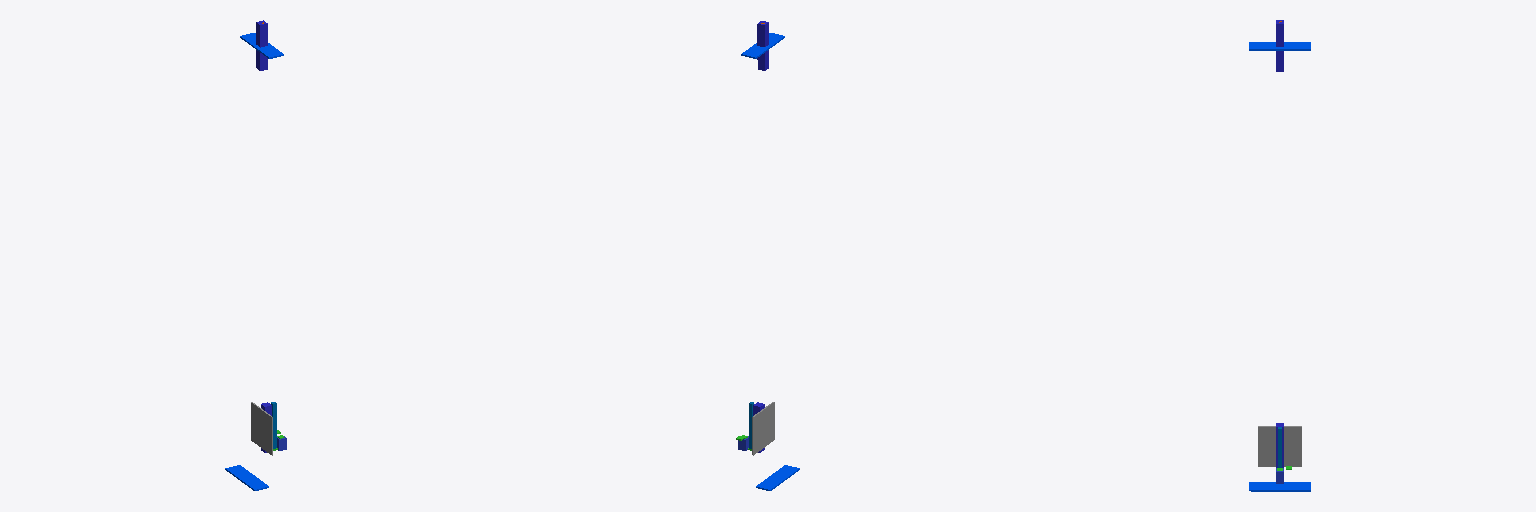
robot.urdf — slider_robot:
<?xml version="1.0"?>
<robot name="slider_robot">

  <!-- ================= BASE PLATFORM ================= -->

  <link name="world"/>

<joint name="world_to_base" type="fixed">
  <parent link="world"/>
  <child link="base_link"/>
  <origin xyz="0 0 2" rpy="0 0 0"/>
</joint>

  <link name="base_link">
    <visual>
      <geometry>
        <box size="0.5 0.5 0.02"/>
      </geometry>
      <origin xyz="0 0 0" rpy="0 1.5707 0"/>
      <material name="gray">
        <color rgba="0.6 0.6 0.6 1.0"/>
      </material>
    </visual>

    <collision>
      <geometry>
        <box size="0.5 0.5 0.02"/>
      </geometry>
      <origin xyz="0 0 0" rpy="0 1.5707 0"/>
    </collision>

    <inertial>
      <mass value="2.0"/>
      <origin xyz="0 0 1" rpy="0 1.5707 0"/>
      <inertia ixx="0.02" ixy="0.0" ixz="0.0"
               iyy="0.02" iyz="0.0"
               izz="0.04"/>
    </inertial>
  </link> 

  <!-- ================= PLATFORM BLOCK ================= -->
  <link name="platform_link">
    <visual>
      <geometry>
        <box size="0.1 0.6 0.1"/>
      </geometry>
      <origin xyz="0 0 0" rpy="1.5707 0 0"/>
      <material name="blue">
        <color rgba="0.2 0.2 0.8 1.0"/>
      </material>
    </visual>
    
    <collision>
      <geometry>
        <box size="0.1 0.6 0.1"/>
      </geometry>
      <origin xyz="0 0 0" rpy="1.5707 0 0"/>
    </collision> 

    <inertial>
      <mass value="5.0"/>
      <origin xyz="0 0 0" rpy="0 0 0"/>
      <inertia ixx="0.154" ixy="0.0" ixz="0.0"
               iyy="0.008" iyz="0.0"
               izz="0.154"/>
    </inertial>
  </link>
  <link name="platform_link1">
    <visual>
      <geometry>
        <box size="0.1 0.6 0.1"/>
      </geometry>
      <origin xyz="0 0 0" rpy="1.5707 0 0"/>
      <material name="blue">
        <color rgba="0.2 0.2 0.8 1.0"/>
      </material>
    </visual>
    
    <collision>
      <geometry>
        <box size="0.1 0.6 0.1"/>
      </geometry>
      <origin xyz="0 0 0" rpy="1.5707 0 0"/>
    </collision> 

    <inertial>
      <mass value="5.0"/>
      <origin xyz="0 0 0" rpy="0 0 0"/>
      <inertia ixx="0.154" ixy="0.0" ixz="0.0"
               iyy="0.008" iyz="0.0"
               izz="0.154"/>
    </inertial>
  </link>


<!-- ===================== DRILL BLOCK ==================-->
  <link name="drill_link">
    <visual>
      <geometry>
        <box size="0.05 0.6 0.05"/>
      </geometry>
      <origin xyz="0 0 0" rpy="1.5707 0 0"/>
    </visual>

    <collision>
      <geometry>
        <box size="0.05 0.6 0.05"/>
      </geometry>
      <origin xyz="0 0 0" rpy="1.5707 0 0"/>
    </collision> 

    <inertial>
      <mass value="3.0"/>
      <origin xyz="0 0 0" rpy="0 0 0"/>
      <inertia ixx="0.01" ixy="0.0" ixz="0.0"
               iyy="0.01" iyz="0.0"
               izz="0.01"/>
    </inertial>
  </link>
  <link name="drill_link1">
    <visual>
      <geometry>
        <box size="0.05 0.6 0.05"/>
      </geometry>
      <origin xyz="0 0 0" rpy="1.5707 0 0"/>
    </visual>

    <collision>
      <geometry>
        <box size="0.05 0.6 0.05"/>
      </geometry>
      <origin xyz="0 0 0" rpy="1.5707 0 0"/>
    </collision> 

    <inertial>
      <mass value="3.0"/>
      <origin xyz="0 0 0" rpy="0 0 0"/>
      <inertia ixx="0.01" ixy="0.0" ixz="0.0"
               iyy="0.01" iyz="0.0"
               izz="0.01"/>
    </inertial>
  </link>


<!-- ===================== DRILL Rotation ================== -->
  <link name="rotor_link">
    <visual>
      <geometry>
        <box size="0.07 0.07 0.02"/>
      </geometry>
      <origin xyz="0 0 0" rpy="0 0 0"/>
      <material name="green">
        <color rgba="0.2 0.8 0.2 1.0"/>
      </material>
    </visual>

    <collision>
      <geometry>
        <box size="0.07 0.07 0.02"/>
      </geometry>
      <origin xyz="0 0 0" rpy="0 0 0"/>
    </collision> 

    <inertial>
      <mass value="0.5"/>
      <origin xyz="0 0 0" rpy="0 0 0"/>
      <inertia ixx="0.0022" ixy="0.0" ixz="0.0"
               iyy="0.0022" iyz="0.0"
               izz="0.0004"/>
    </inertial>
  </link>

 <!-- ===================== VACUUM BODY================== -->
  <link name="vaccum_body_link">

    <visual>
      <geometry>
        <box size="0.1 0.1 0.15"/>
      </geometry>

      <origin xyz="0 0 0" rpy="0 0 0"/>

      <material name="blue">
        <color rgba="0.2 0.3 0.8 1"/>
      </material>
    </visual>


    <collision>
      <geometry>
        <box size="0.1 0.1 0.15"/>
      </geometry>
    </collision>


    <inertial>
      <mass value="5"/>
      <origin xyz="0 0 0"/>

      <inertia
        ixx="0.2"
        ixy="0"
        ixz="0"
        iyy="0.2"
        iyz="0"
        izz="0.2"/>
    </inertial>

  </link>
  <!-- ===================== VACUUM Rotation ================== -->
  <link name="vacuum_rotor_link">
    <visual>
      <geometry>
        <box size="0.07 0.07 0.02"/>
      </geometry>
      <origin xyz="0 0 0" rpy="0 0 0"/>
      <material name="green">
        <color rgba="0.2 0.8 0.2 1.0"/>
      </material>
    </visual>

    <collision>
      <geometry>
        <box size="0.07 0.07 0.02"/>
      </geometry>
      <origin xyz="0 0 0" rpy="0 0 0"/>
    </collision> 

    <inertial>
      <mass value="0.5"/>
      <origin xyz="0 0 0" rpy="0 0 0"/>
      <inertia ixx="0.0022" ixy="0.0" ixz="0.0"
               iyy="0.0022" iyz="0.0"
               izz="0.0004"/>
    </inertial>
  </link>

   <!-- ===================== BRUSH Rotation ================== -->
  <link name="brush_rotor_link">
    <visual>
      <geometry>
        <box size="0.07 0.07 0.02"/>
      </geometry>
      <origin xyz="0 0 0" rpy="0 0 0"/>
      <material name="green">
        <color rgba="0.2 0.8 0.2 1.0"/>
      </material>
    </visual>

    <collision>
      <geometry>
        <box size="0.07 0.07 0.02"/>
      </geometry>
      <origin xyz="0 0 0" rpy="0 0 0"/>
    </collision> 

    <inertial>
      <mass value="0.5"/>
      <origin xyz="0 0 0" rpy="0 0 0"/>
      <inertia ixx="0.0022" ixy="0.0" ixz="0.0"
               iyy="0.0022" iyz="0.0"
               izz="0.0004"/>
    </inertial>
  </link>

  <!--================CONTAINER==================-->
  <!-- Container link -->
  <link name="container_link">

    <!-- Visual rectangle -->
    <visual>
      <origin xyz="0 0 0" rpy="0 0 0"/>

      <geometry>
        <box size="0.7 0.2 0.02"/>
      </geometry>

      <material name="blue">
        <color rgba="0 0.4 1 1"/>
      </material>
    </visual>

    <!-- Collision for Gazebo -->
    <collision>
      <origin xyz="0 0 0" rpy="0 0 0"/>

      <geometry>
        <box size="0.7 0.1 0.02"/>
      </geometry>
    </collision>

    <!-- Required for Gazebo physics -->
    <inertial>
      <origin xyz="0 0 0" rpy="0 0 0"/>

      <mass value="1.0"/>

      <inertia
        ixx="0.01"
        ixy="0"
        ixz="0"
        iyy="0.01"
        iyz="0"
        izz="0.01"/>
    </inertial>

  </link>
  <link name="container_link1">

    <!-- Visual rectangle -->
    <visual>
      <origin xyz="0 0 0" rpy="0 0 0"/>

      <geometry>
        <box size="0.7 0.2 0.02"/>
      </geometry>

      <material name="blue">
        <color rgba="0 0.4 1 1"/>
      </material>
    </visual>

    <!-- Collision for Gazebo -->
    <collision>
      <origin xyz="0 0 0" rpy="0 0 0"/>

      <geometry>
        <box size="0.7 0.1 0.02"/>
      </geometry>
    </collision>

    <!-- Required for Gazebo physics -->
    <inertial>
      <origin xyz="0 0 0" rpy="0 0 0"/>

      <mass value="1.0"/>

      <inertia
        ixx="0.01"
        ixy="0"
        ixz="0"
        iyy="0.01"
        iyz="0"
        izz="0.01"/>
    </inertial>

  </link>

  <link name= "clamp_link">
    <visual>
      <geometry>
        <box size="0.07 0.07 0.02"/>
      </geometry>
      <origin xyz="0 0 0" rpy="0 0 0"/>
      <material name="green">
        <color rgba="0.2 0.8 0.2 1.0"/>
      </material>
    </visual>

    <collision>
      <geometry>
        <box size="0.07 0.07 0.02"/>
      </geometry>
      <origin xyz="0 0 0" rpy="0 0 0"/>
    </collision> 

    <inertial>
      <mass value="0.5"/>
      <origin xyz="0 0 0" rpy="0 0 0"/>
      <inertia ixx="0.0022" ixy="0.0" ixz="0.0"
               iyy="0.0022" iyz="0.0"
               izz="0.0004"/>
    </inertial>
  </link>



  <!--==================JOINTS====================-->
  <joint name="platform_joint" type="prismatic">
    <parent link="base_link"/>
    <child link="platform_link"/>

   
    <origin xyz="0.06 0 0" rpy="0 0 0"/>

    <axis xyz="0 0 1"/>
    
    <dynamics 
      damping="0.0"
      friction="0.0"/>

    <limit lower="-0.5" upper="0.5" effort="5000" velocity="5.0"/>
  </joint> 

  <joint name="drill_joint" type="prismatic">
    <parent link="platform_link"/>
    <child link="drill_link"/>

   
    <origin xyz="0.1 0 0" rpy="0 0 0"/>

    <axis xyz="0 0 1"/>

    <dynamics 
      damping="0.0"
      friction="0.0"/>

    <limit lower="-0.5" upper="0.5" effort="5000" velocity="0.5"/>
  </joint> 
  <joint name="rotor_joint" type="continuous">
    <parent link="drill_link"/>
    <child link="rotor_link"/>

   
    <origin xyz="0 0 -0.3" rpy="0 0 0"/>

    <axis xyz="0 0 1"/>

    <limit effort="5000" velocity="50"/> 
  </joint> 

  <joint name="vaccum_fixed_joint" type="fixed">
    <parent link="platform_link"/>
    <child link="vaccum_body_link"/>

    <origin xyz="0.2 0 -0.25" rpy="0 0 0"/>

  </joint> 
  <joint name="vacuum_rotor_joint" type="continuous">
    <parent link="vaccum_body_link"/>
    <child link="vacuum_rotor_link"/>

   
    <origin xyz="0 0 0.075" rpy="0 0 0"/>

    <axis xyz="0 0 1"/>

    <limit effort="5000" velocity="50"/> 
  </joint> 
  <joint name="brush_rotor_joint" type="continuous">
    <parent link="vaccum_body_link"/>
    <child link="brush_rotor_link"/>

   
    <origin xyz="0 0 -0.075" rpy="0 0 0"/>

    <axis xyz="0 0 1"/>

    <limit effort="5000" velocity="50"/> 
  </joint> 

  
  <joint name="container_joint" type="revolute">

    <parent link="base_link"/>
    <child link="container_link"/>

    <!-- Position of rotation axis -->
    <origin xyz="-0.2 0 -0.6" rpy="0 0 1.57"/>

    <!-- Rotation axis -->
    <axis xyz="0 0 1"/>

    <limit
        lower="-1.6"
        upper="1.6"
        effort="1000"
        velocity="10.0"/>

  </joint>

  <joint name="clamp_joint" type="revolute">

    <parent link="vaccum_body_link"/>
    <child link="clamp_link"/>

    <!-- Position of rotation axis -->
    <origin xyz="0.0 0.1 0.1" rpy="0 0 0"/>

    <!-- Rotation axis -->
    <axis xyz="1 0 0"/>

    <limit
        lower="-1.6"
        upper="1.6"
        effort="100"
        velocity="20.0"/>

  </joint>

   <joint name="platform_vel_joint" type="prismatic">

    <parent link="base_link"/>
    <child link="platform_link1"/>
    <origin xyz="0 0 5" rpy="0 0 0"/>

    <!-- Rotation axis -->
    <axis xyz="0 0 1"/>
    <limit lower="-0.5" upper="0.5" effort="5000" velocity="5.0"/>

  </joint>
  <joint name="drill_vel_joint" type="prismatic">

    <parent link="platform_link1"/>
    <child link="drill_link1"/>
    <origin xyz="0 0 0" rpy="0 0 0"/>

    <!-- Rotation axis -->
    <axis xyz="0 0 1"/>
    <limit lower="-0.5" upper="0.5" effort="5000" velocity="5.0"/>

  </joint>
  <joint name="container_vel_joint" type="prismatic">

    <parent link="base_link"/>
    <child link="container_link1"/>
    <origin xyz="0 0 5" rpy="0 0 1.57"/>

    <!-- Rotation axis -->
    <axis xyz="0 0 1"/>
    <limit lower="-1.6" upper="1.6" effort="1000" velocity="5.0"/>

  </joint>


  <!-- <gazebo>
    <plugin
      filename="libgz_ros2_control-system.so"
      name="gz_ros2_control::GazeboSimROS2ControlPlugin">
      <parameters>__CONTROLLER_CONFIG_PATH__</parameters>
    </plugin>
  </gazebo> -->
  
  <gazebo>

  <plugin
   filename="gz-sim-joint-position-controller-system"
   name="gz::sim::systems::JointPositionController">

    <joint_name>platform_joint</joint_name>

    <p_gain>5000</p_gain>
    <i_gain>0</i_gain>
    <d_gain>100</d_gain>

  </plugin>

  <plugin
    filename="gz-sim-joint-position-controller-system"
    name="gz::sim::systems::JointPositionController">

    <joint_name>drill_joint</joint_name>

    <p_gain>1500</p_gain>
    <i_gain>0</i_gain>
    <d_gain>100</d_gain>

  </plugin>

  <plugin
    filename="gz-sim-joint-controller-system"
    name="gz::sim::systems::JointController">
    <joint_name>rotor_joint</joint_name>

    <!-- <initial_velocity>0</initial_velocity> -->

  </plugin>

  <plugin
    filename="gz-sim-joint-controller-system"
    name="gz::sim::systems::JointController">
    <joint_name>vacuum_rotor_joint</joint_name>

    <!-- <initial_velocity>10</initial_velocity> -->

  </plugin>
  <plugin
    filename="gz-sim-joint-controller-system"
    name="gz::sim::systems::JointController">
    <joint_name>brush_rotor_joint</joint_name>

    <!-- <initial_velocity>-10</initial_velocity> -->

  </plugin>

  <plugin
    filename="gz-sim-joint-position-controller-system"
    name="gz::sim::systems::JointPositionController">

    <joint_name>container_joint</joint_name>

    <p_gain>50</p_gain>
    <i_gain>0</i_gain>
    <d_gain>20</d_gain>

  </plugin>

  <plugin
    filename="gz-sim-joint-position-controller-system"
    name="gz::sim::systems::JointPositionController">

    <joint_name>clamp_joint</joint_name>

    <p_gain>20</p_gain>
    <i_gain>0</i_gain>
    <d_gain>50</d_gain>

  </plugin>

  
  <plugin
  filename="gz-sim-joint-state-publisher-system"
  name="gz::sim::systems::JointStatePublisher"/>

  </gazebo>

  <!-- <ros2_control name="GazeboSimSystem" type="system"> -->
  <ros2_control name= "SamplerHardwareSystem" type="system">
    <!-- <hardware>SamplerHardwareSystem
      <plugin>gz_ros2_control/GazeboSimSystem</plugin>
    </hardware> -->

    <hardware>
      <plugin>sampler_hardware_interfaces/SamplerHardware</plugin>
    </hardware>

    <joint name="platform_joint">
      <command_interface name="position"/>
      <command_interface name="velocity"/>
      <state_interface name="position"/>
      <state_interface name="velocity"/>
    </joint>

    <joint name="drill_joint">
      <command_interface name="position"/>
      <command_interface name="velocity"/>
      <state_interface name="position"/>
      <state_interface name="velocity"/>
    </joint>

     <joint name="rotor_joint">
      <command_interface name="velocity"/>
      <state_interface name="position"/>
      <state_interface name="velocity"/>
    </joint>
    <joint name="vacuum_rotor_joint">
      <command_interface name="velocity"/>
      <state_interface name="position"/>
      <state_interface name="velocity"/>
    </joint>
    <joint name="brush_rotor_joint">
      <command_interface name="velocity"/>
      <state_interface name="position"/>
      <state_interface name="velocity"/>
    </joint>

    <joint name="container_joint">

    <command_interface name="position"/>

      <state_interface name="position"/>
      <state_interface name="velocity"/>

    </joint>

    <joint name="clamp_joint">

      <command_interface name="position"/>

      <state_interface name="position"/>
      <state_interface name="velocity"/>

    </joint>

    <joint name="platform_vel_joint">

      <command_interface name="velocity"/>

      <!-- <state_interface name="position"/>
      <state_interface name="velocity"/> -->

    </joint>

    <joint name="drill_vel_joint">

      <command_interface name="velocity"/>

      <!-- <state_interface name="position"/>
      <state_interface name="velocity"/> -->

    </joint>

    <joint name="container_vel_joint">

      <command_interface name="velocity"/>

      <!-- <state_interface name="position"/>
      <state_interface name="velocity"/> -->

    </joint>
    
  </ros2_control>



</robot>

--- Render facts (derived) ---
3 views of the same robot in one strip: view 1: azimuth 30°, elevation 25°; view 2: azimuth 150°, elevation 25°; view 3: azimuth 270°, elevation 25° (orthographic).
Model slider_robot with 13 links and 12 joints (2 revolute, 3 continuous, 5 prismatic, 2 fixed), rooted at world, posed every joint at zero.
Visible links, largest first — view 1: base_link; view 2: base_link; view 3: base_link, container_link.
Link boxes in pixels (x1,y1,x2,y2): base_link: [251, 402, 272, 455]; base_link: [752, 402, 774, 455]; base_link: [1258, 426, 1301, 466]; container_link: [1249, 482, 1310, 491].
Bounding box of the posed robot: 0.6103 × 0.7002 × 5.91 m (x, y, z).
Geometry: primitives only (box / cylinder / sphere), no mesh files.
